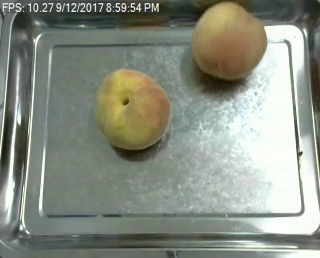Peach: (94, 68, 171, 150), (192, 1, 267, 81)
